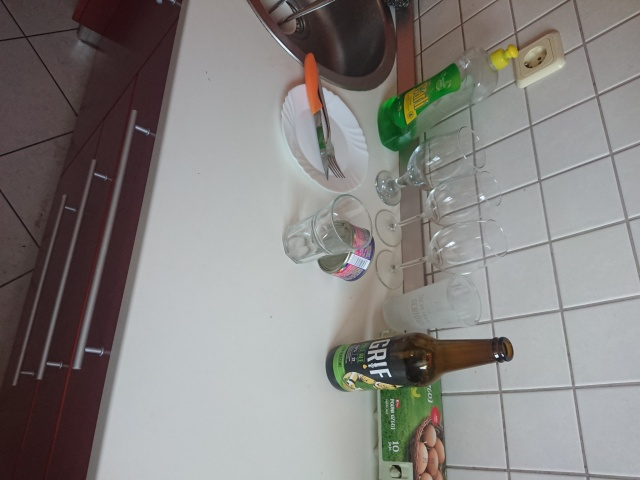Giana Tuna Salad Mexico 185g: (315, 218, 377, 283)
